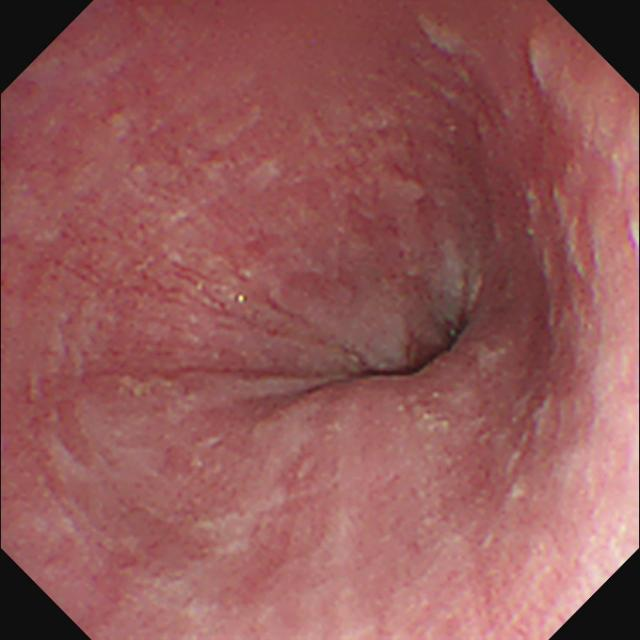A: (92, 231, 280, 332), (525, 242, 605, 422)
E: (372, 324, 477, 386)
